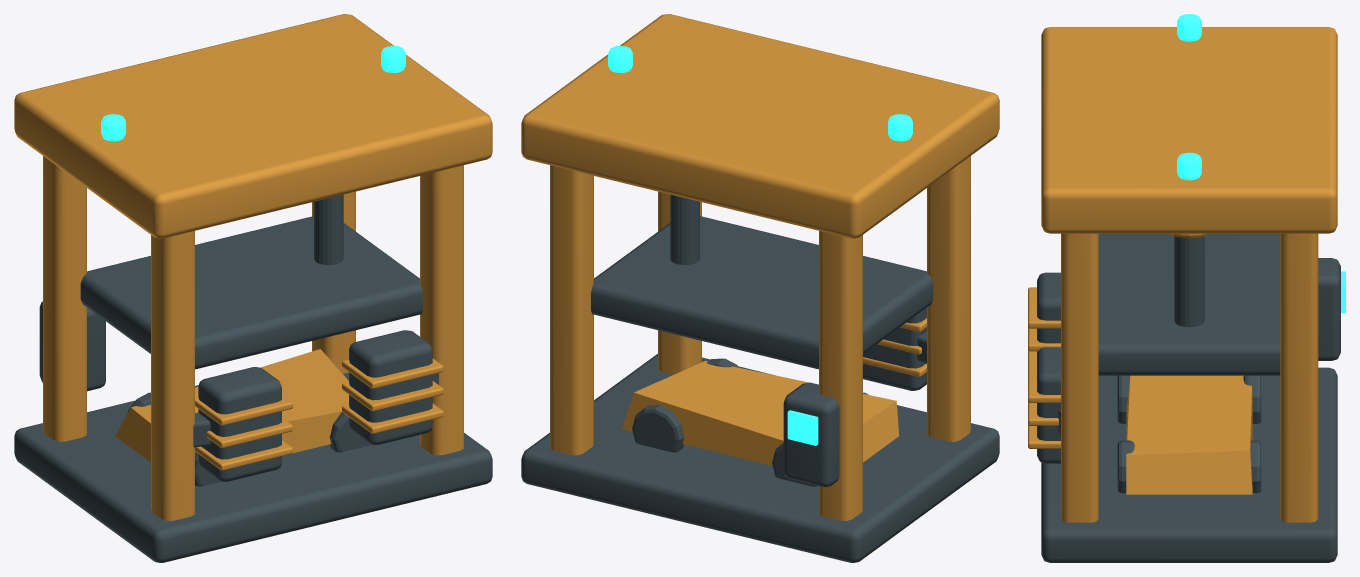
File: compactor.glb
3 renders of one model, left to right at view 1: azimuth 30°, elevation 25°; view 2: azimuth 150°, elevation 25°; view 3: azimuth 270°, elevation 25°, orthographic.
Visible parts, largest first — view 1: compactor; view 2: compactor; view 3: compactor.
Part boxes in pixels (x1,y1,x2,y2): compactor: [14, 14, 492, 562]; compactor: [521, 14, 999, 562]; compactor: [1028, 14, 1345, 562].
Size of the model in its own units: 3.15 by 3.46 by 2.52.
